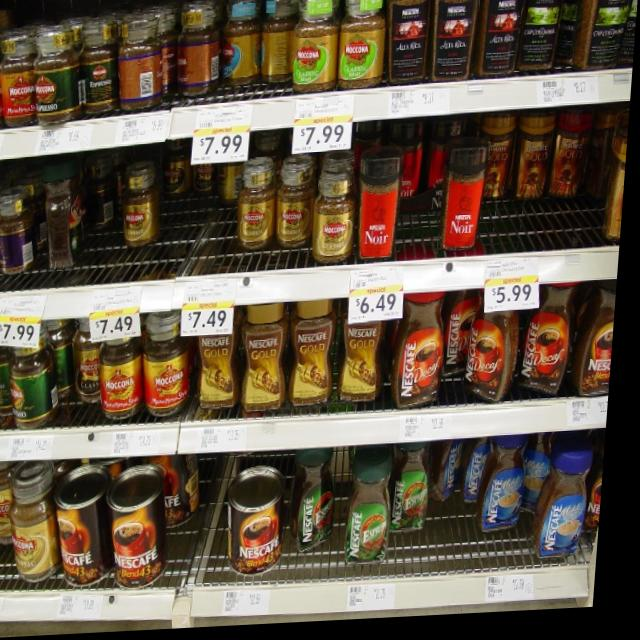q16: (398, 289, 456, 421), (467, 307, 517, 413), (529, 314, 575, 408)
